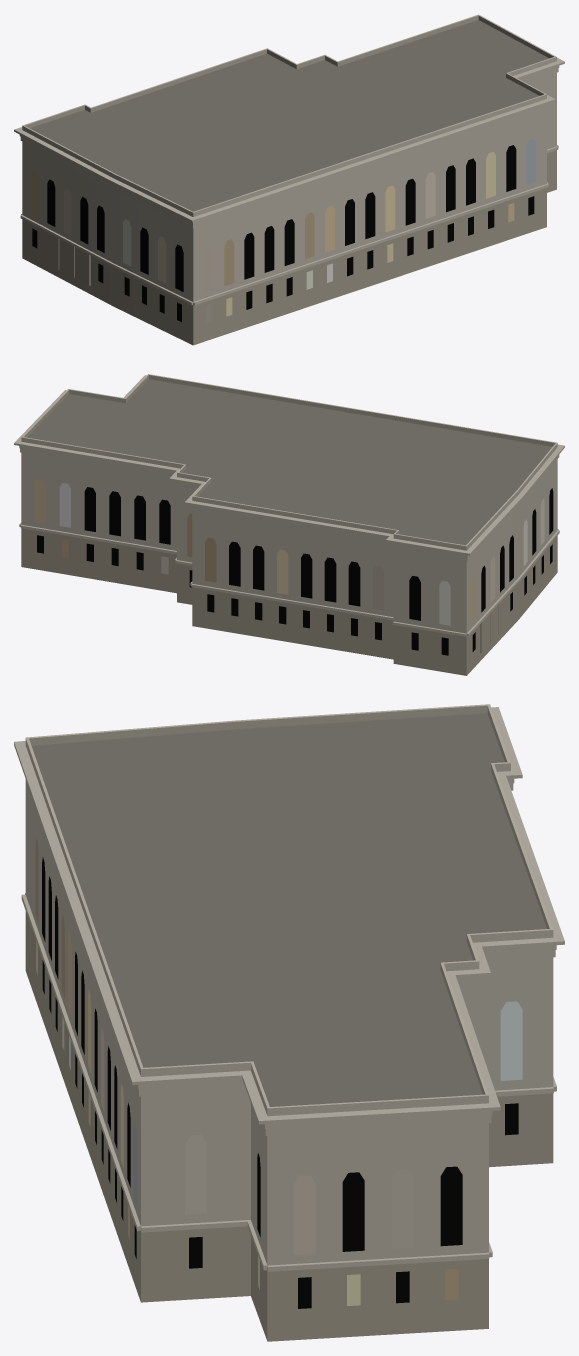
The model's file is asianArt_lod1.glb.
The picture shows the model from 3 angles, top to bottom: view 1: azimuth 30°, elevation 25°; view 2: azimuth 150°, elevation 25°; view 3: azimuth 270°, elevation 25°; orthographic projection. The views are drawn at different scales.
Visible parts, largest first — view 1: L1_granite, L1_roof, L1_win; view 2: L1_granite, L1_roof, L1_win; view 3: L1_roof, L1_granite, L1_win.
Part boxes in pixels (<box>): L1_granite: <box>14,14,564,345</box>; L1_roof: <box>30,20,548,211</box>; L1_win: <box>31,138,536,323</box>; L1_granite: <box>14,374,564,675</box>; L1_roof: <box>27,379,552,545</box>; L1_win: <box>34,478,553,655</box>; L1_roof: <box>31,713,546,1106</box>; L1_granite: <box>14,704,564,1341</box>; L1_win: <box>29,819,522,1308</box>.
Size of the model in its own units: 114 by 30 by 64.22.
